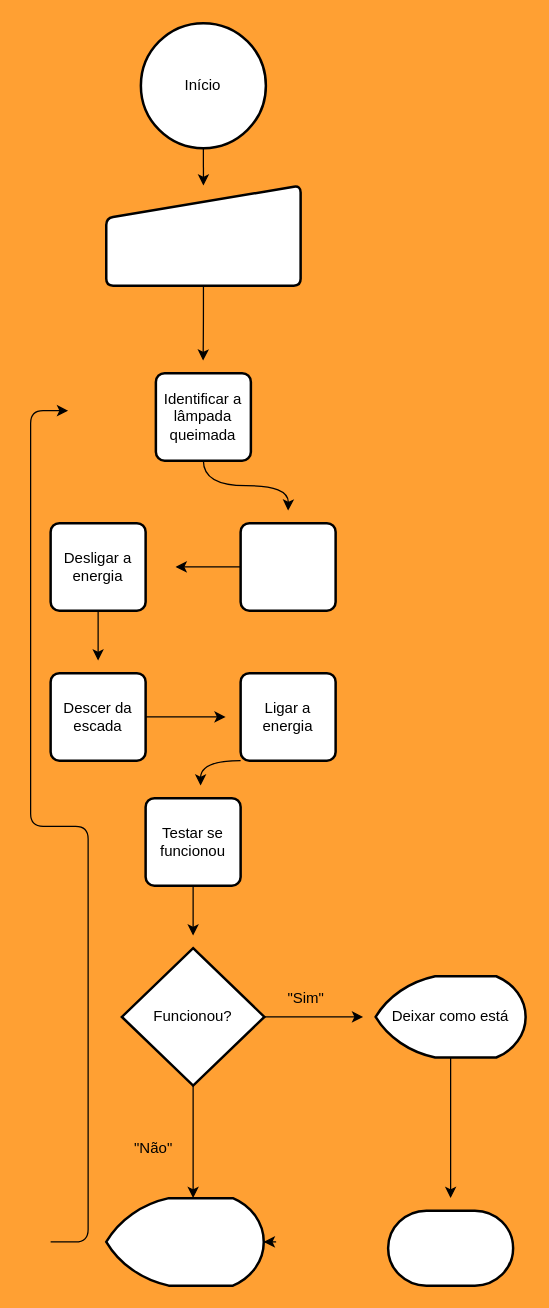
Image size: 549x1308. Some labels were removed from this diagram. The box of each missing label's shape, as (x1, y1, x2, y2) in pixels:
escada, lâmpada, energia, escada, funcionar: (104, 184, 301, 286)
Fim: (386, 1209, 514, 1286)
Não: (104, 1196, 264, 1286)
Trocar a lâmpada: (239, 521, 336, 611)
